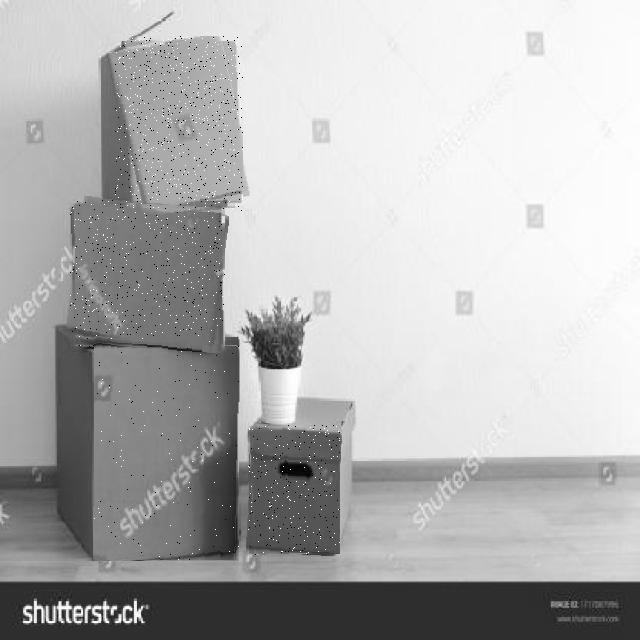BoxFace: (94, 337, 240, 560), (70, 200, 225, 349), (115, 36, 243, 212), (248, 425, 340, 555)
